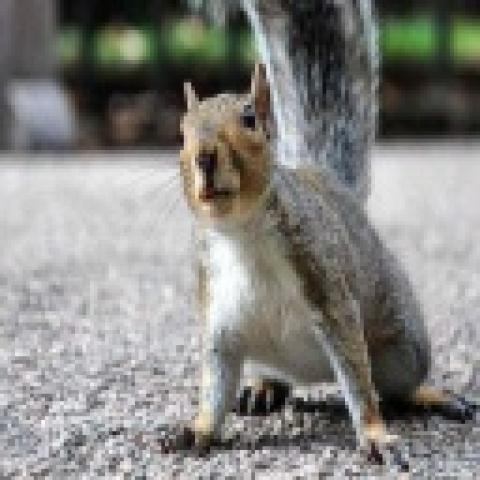small_animal: (162, 56, 476, 465)
